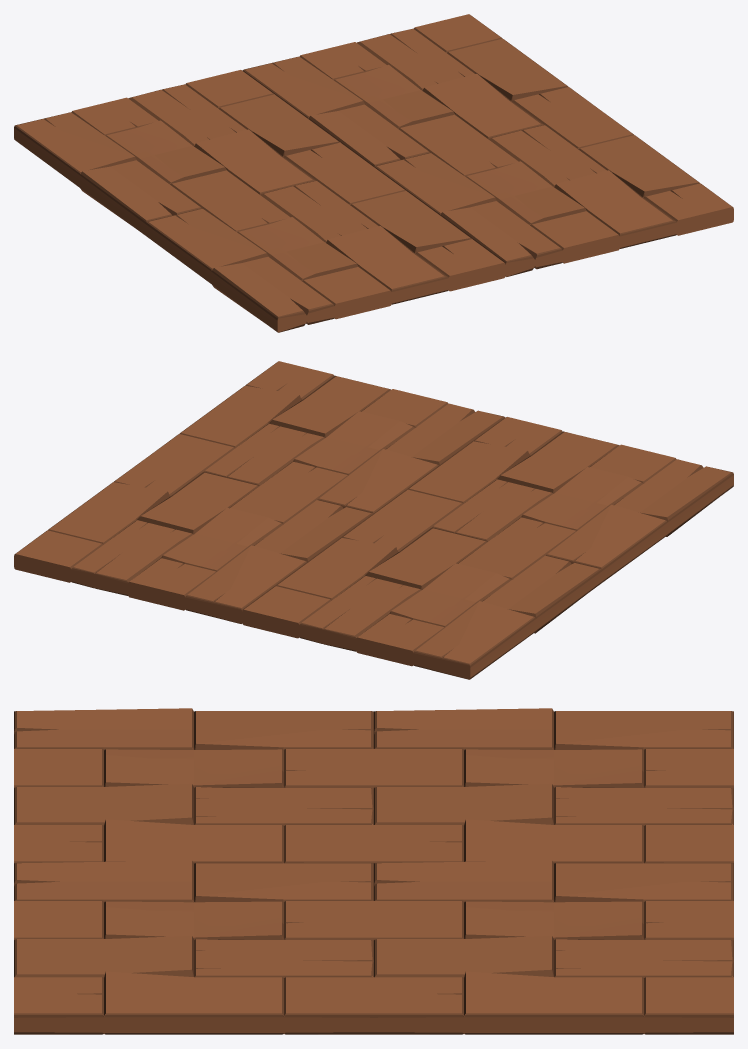
File: Floor_Wood_3.fbx
3 views of the same model, one above another, from view 1: azimuth 30°, elevation 25°; view 2: azimuth 150°, elevation 25°; view 3: azimuth 270°, elevation 25° (orthographic). The views are drawn at different scales.
Visible parts, largest first — view 1: Floor_Wood.013; view 2: Floor_Wood.013; view 3: Floor_Wood.013.
Boxes of the visible parts, bbox=[...] form: Floor_Wood.013: bbox=[14, 14, 733, 332]; Floor_Wood.013: bbox=[14, 361, 733, 679]; Floor_Wood.013: bbox=[14, 708, 733, 1034].
Bounding box in the file's own units: 400 × 20 × 400.
